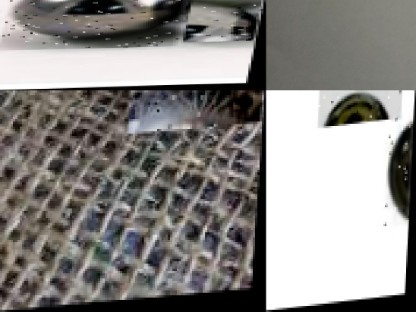ironball: (1, 0, 188, 50), (127, 90, 266, 136), (185, 0, 265, 43), (318, 90, 403, 129), (385, 117, 414, 230)
